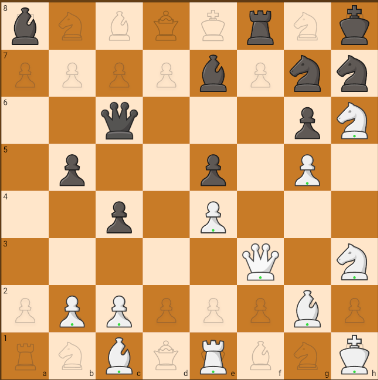bb: (1, 1, 47, 49), (195, 54, 233, 95)
bk: (332, 2, 375, 47)
bn: (335, 55, 373, 96), (288, 52, 325, 93)
bp: (53, 145, 94, 189), (194, 148, 235, 189), (286, 104, 327, 142), (101, 196, 136, 235)
bq: (97, 99, 142, 144)
br: (242, 7, 281, 49)
wb: (289, 286, 329, 332), (99, 337, 140, 378)
wk: (335, 332, 373, 377)
wn: (334, 100, 375, 142), (333, 241, 371, 284)
wp: (52, 290, 91, 331), (193, 198, 233, 235), (290, 150, 327, 189), (101, 291, 137, 330)
wq: (239, 242, 280, 283)
wr: (195, 337, 234, 375)
